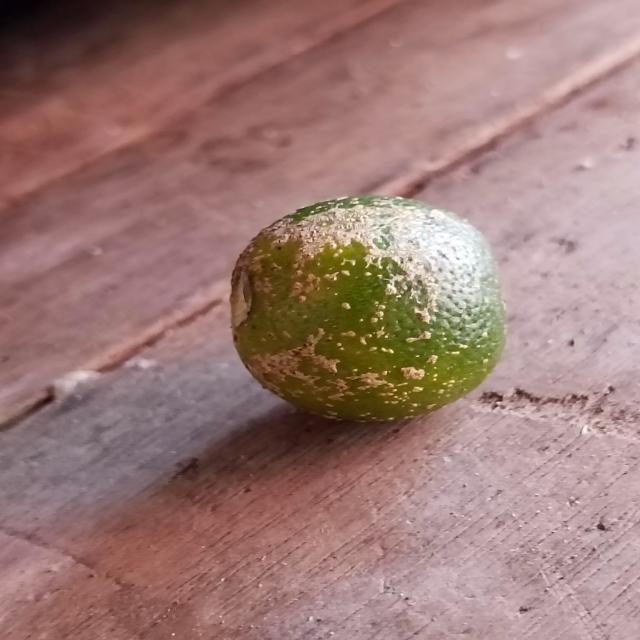scab: (206, 195, 521, 418)
